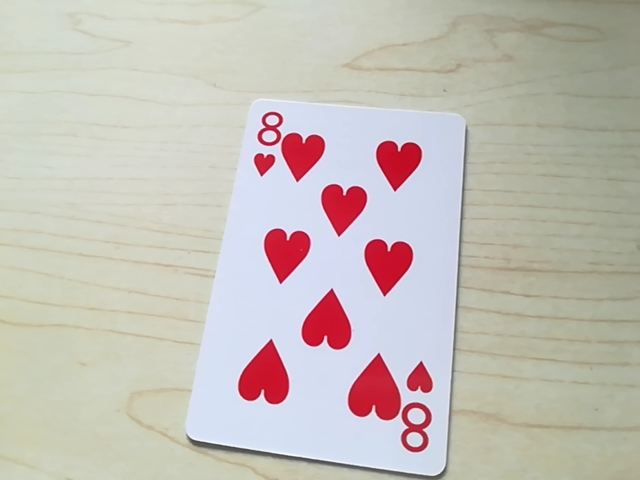hx 8: (396, 382, 439, 461), (252, 103, 290, 146)
